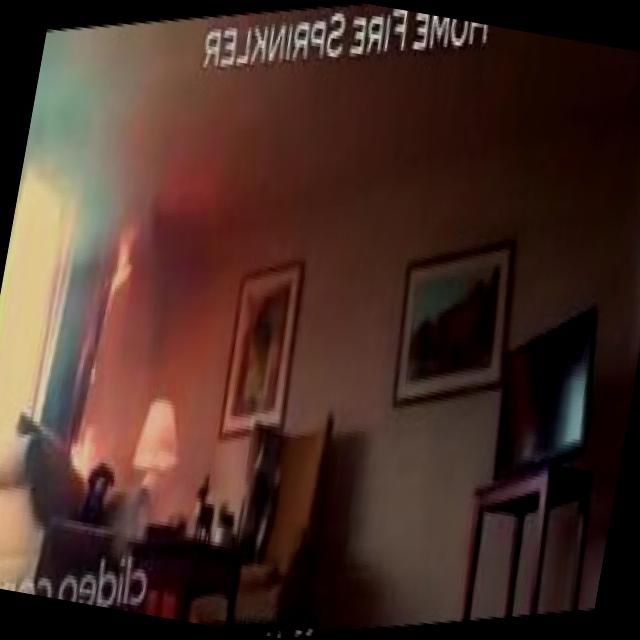fire: (26, 132, 211, 529)
